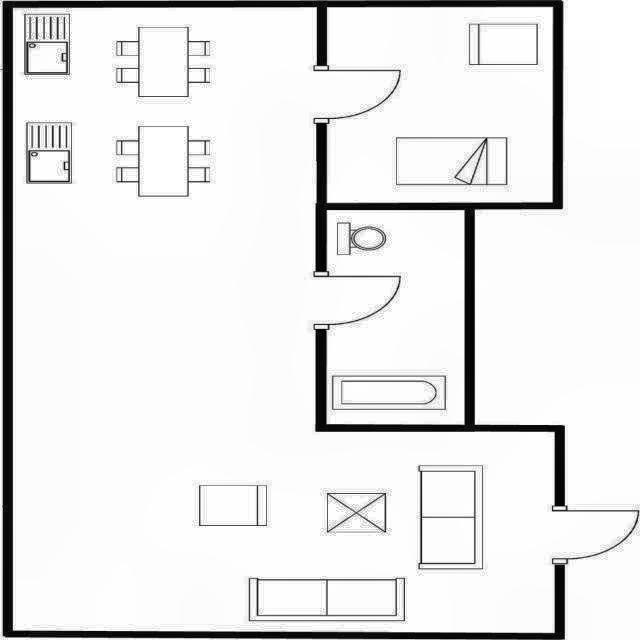room: (13, 7, 554, 633), (327, 7, 553, 202), (327, 210, 465, 424)
